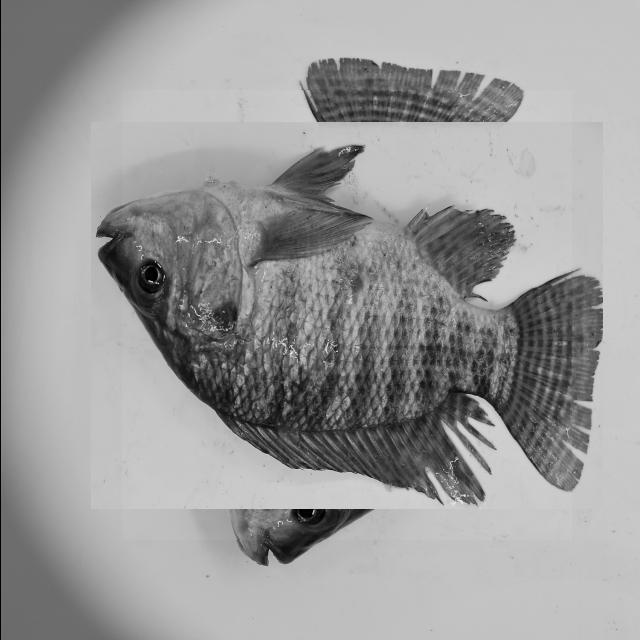Columnaris Disease: (120, 90, 570, 540)
